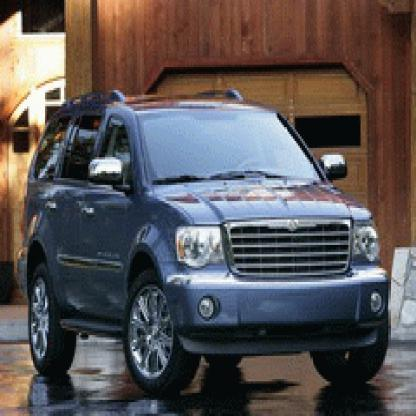Vehicle: (7, 88, 409, 411)
